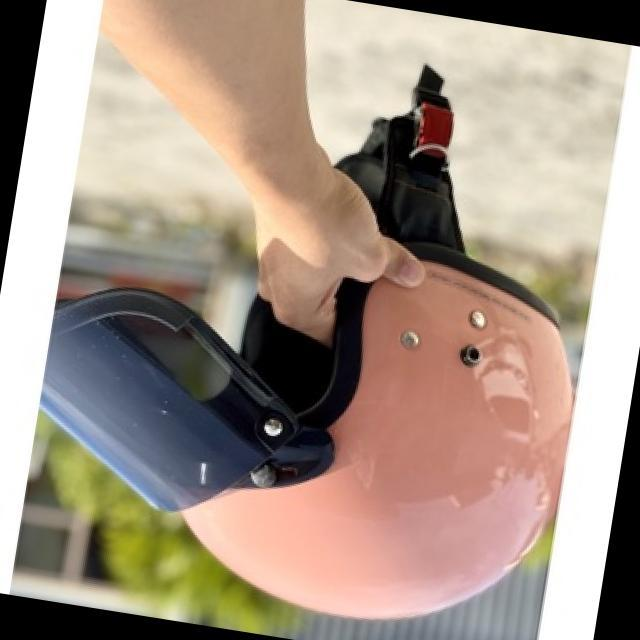Helm: (10, 10, 627, 640)
